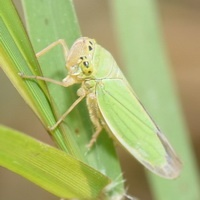insect: (18, 37, 181, 178)
